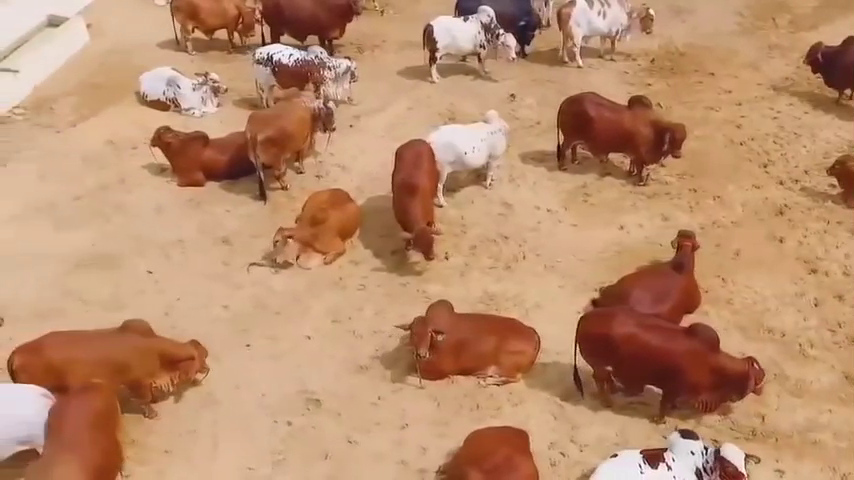bo: (558, 302, 781, 433), (5, 314, 220, 420), (548, 83, 694, 193), (574, 216, 712, 332), (398, 290, 543, 393), (235, 84, 340, 203), (20, 383, 144, 480), (579, 423, 766, 480), (255, 174, 364, 267), (414, 5, 527, 92), (541, 1, 669, 77), (379, 122, 444, 271), (242, 34, 362, 112), (424, 95, 512, 200), (144, 114, 242, 201), (416, 415, 544, 480), (125, 57, 233, 122), (448, 1, 543, 68), (257, 2, 373, 51), (166, 2, 268, 57), (791, 27, 854, 110), (1, 373, 50, 466), (824, 146, 854, 208)
